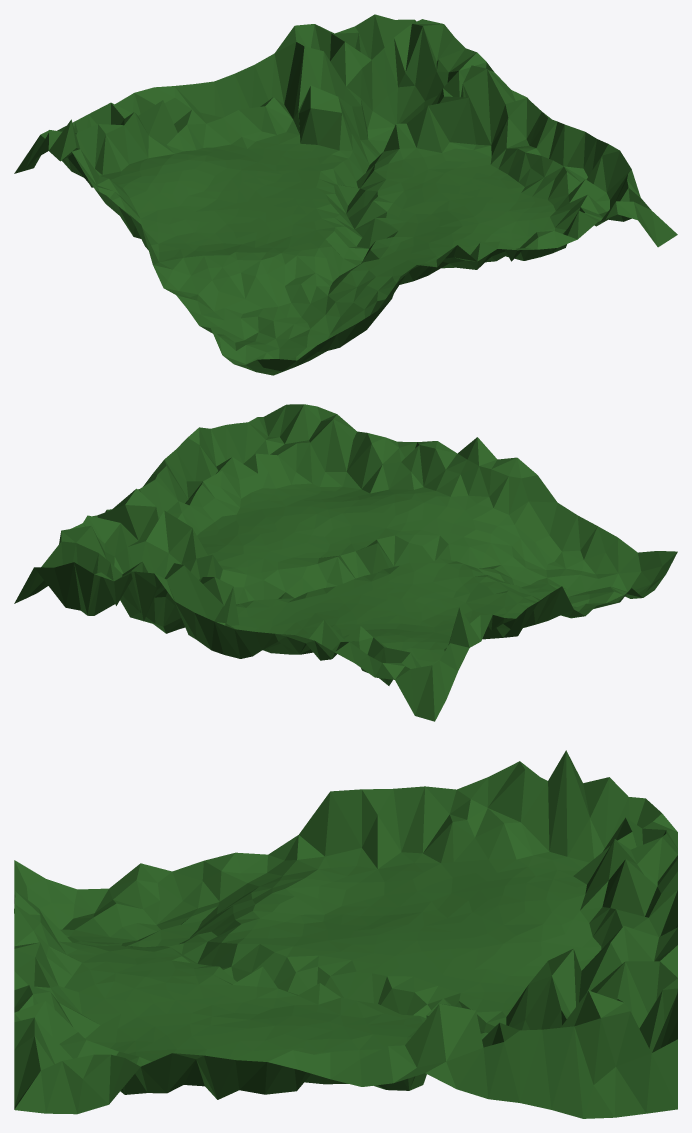
The model's file is MAPA.FBX.
3 renders of one model, top to bottom at view 1: azimuth 30°, elevation 25°; view 2: azimuth 150°, elevation 25°; view 3: azimuth 270°, elevation 25°, orthographic. The views are drawn at different scales.
Visible parts, largest first — view 1: Rectangle001; view 2: Rectangle001; view 3: Rectangle001.
Part boxes in pixels (<box>): Rectangle001: <box>14,14,677,375</box>; Rectangle001: <box>14,404,677,721</box>; Rectangle001: <box>14,750,677,1118</box>.
Size of the model in its own units: 394 by 112 by 394.
